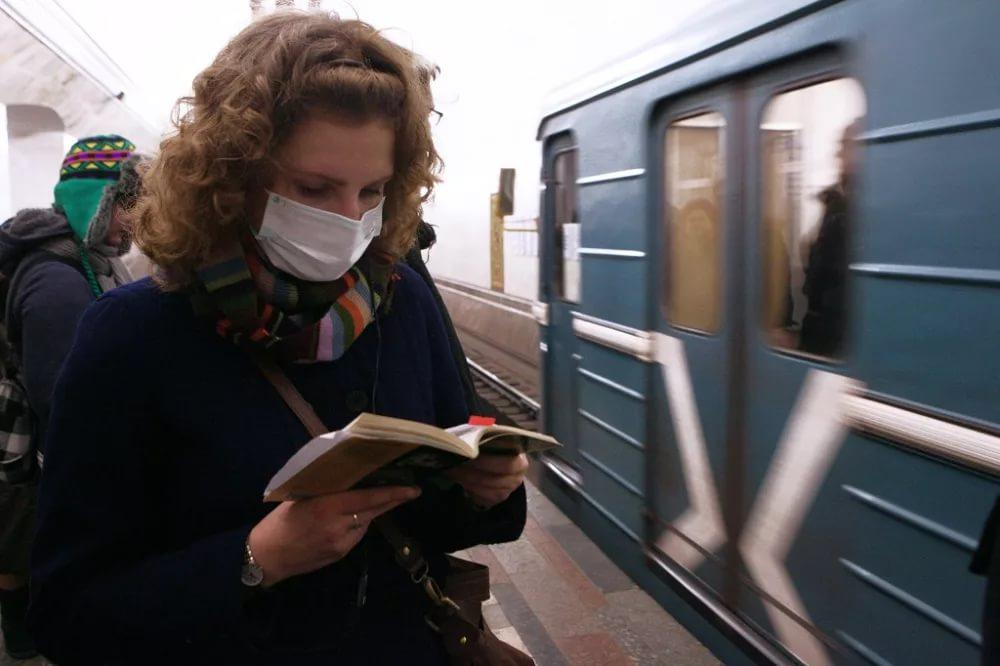mask: (260, 129, 392, 283)
